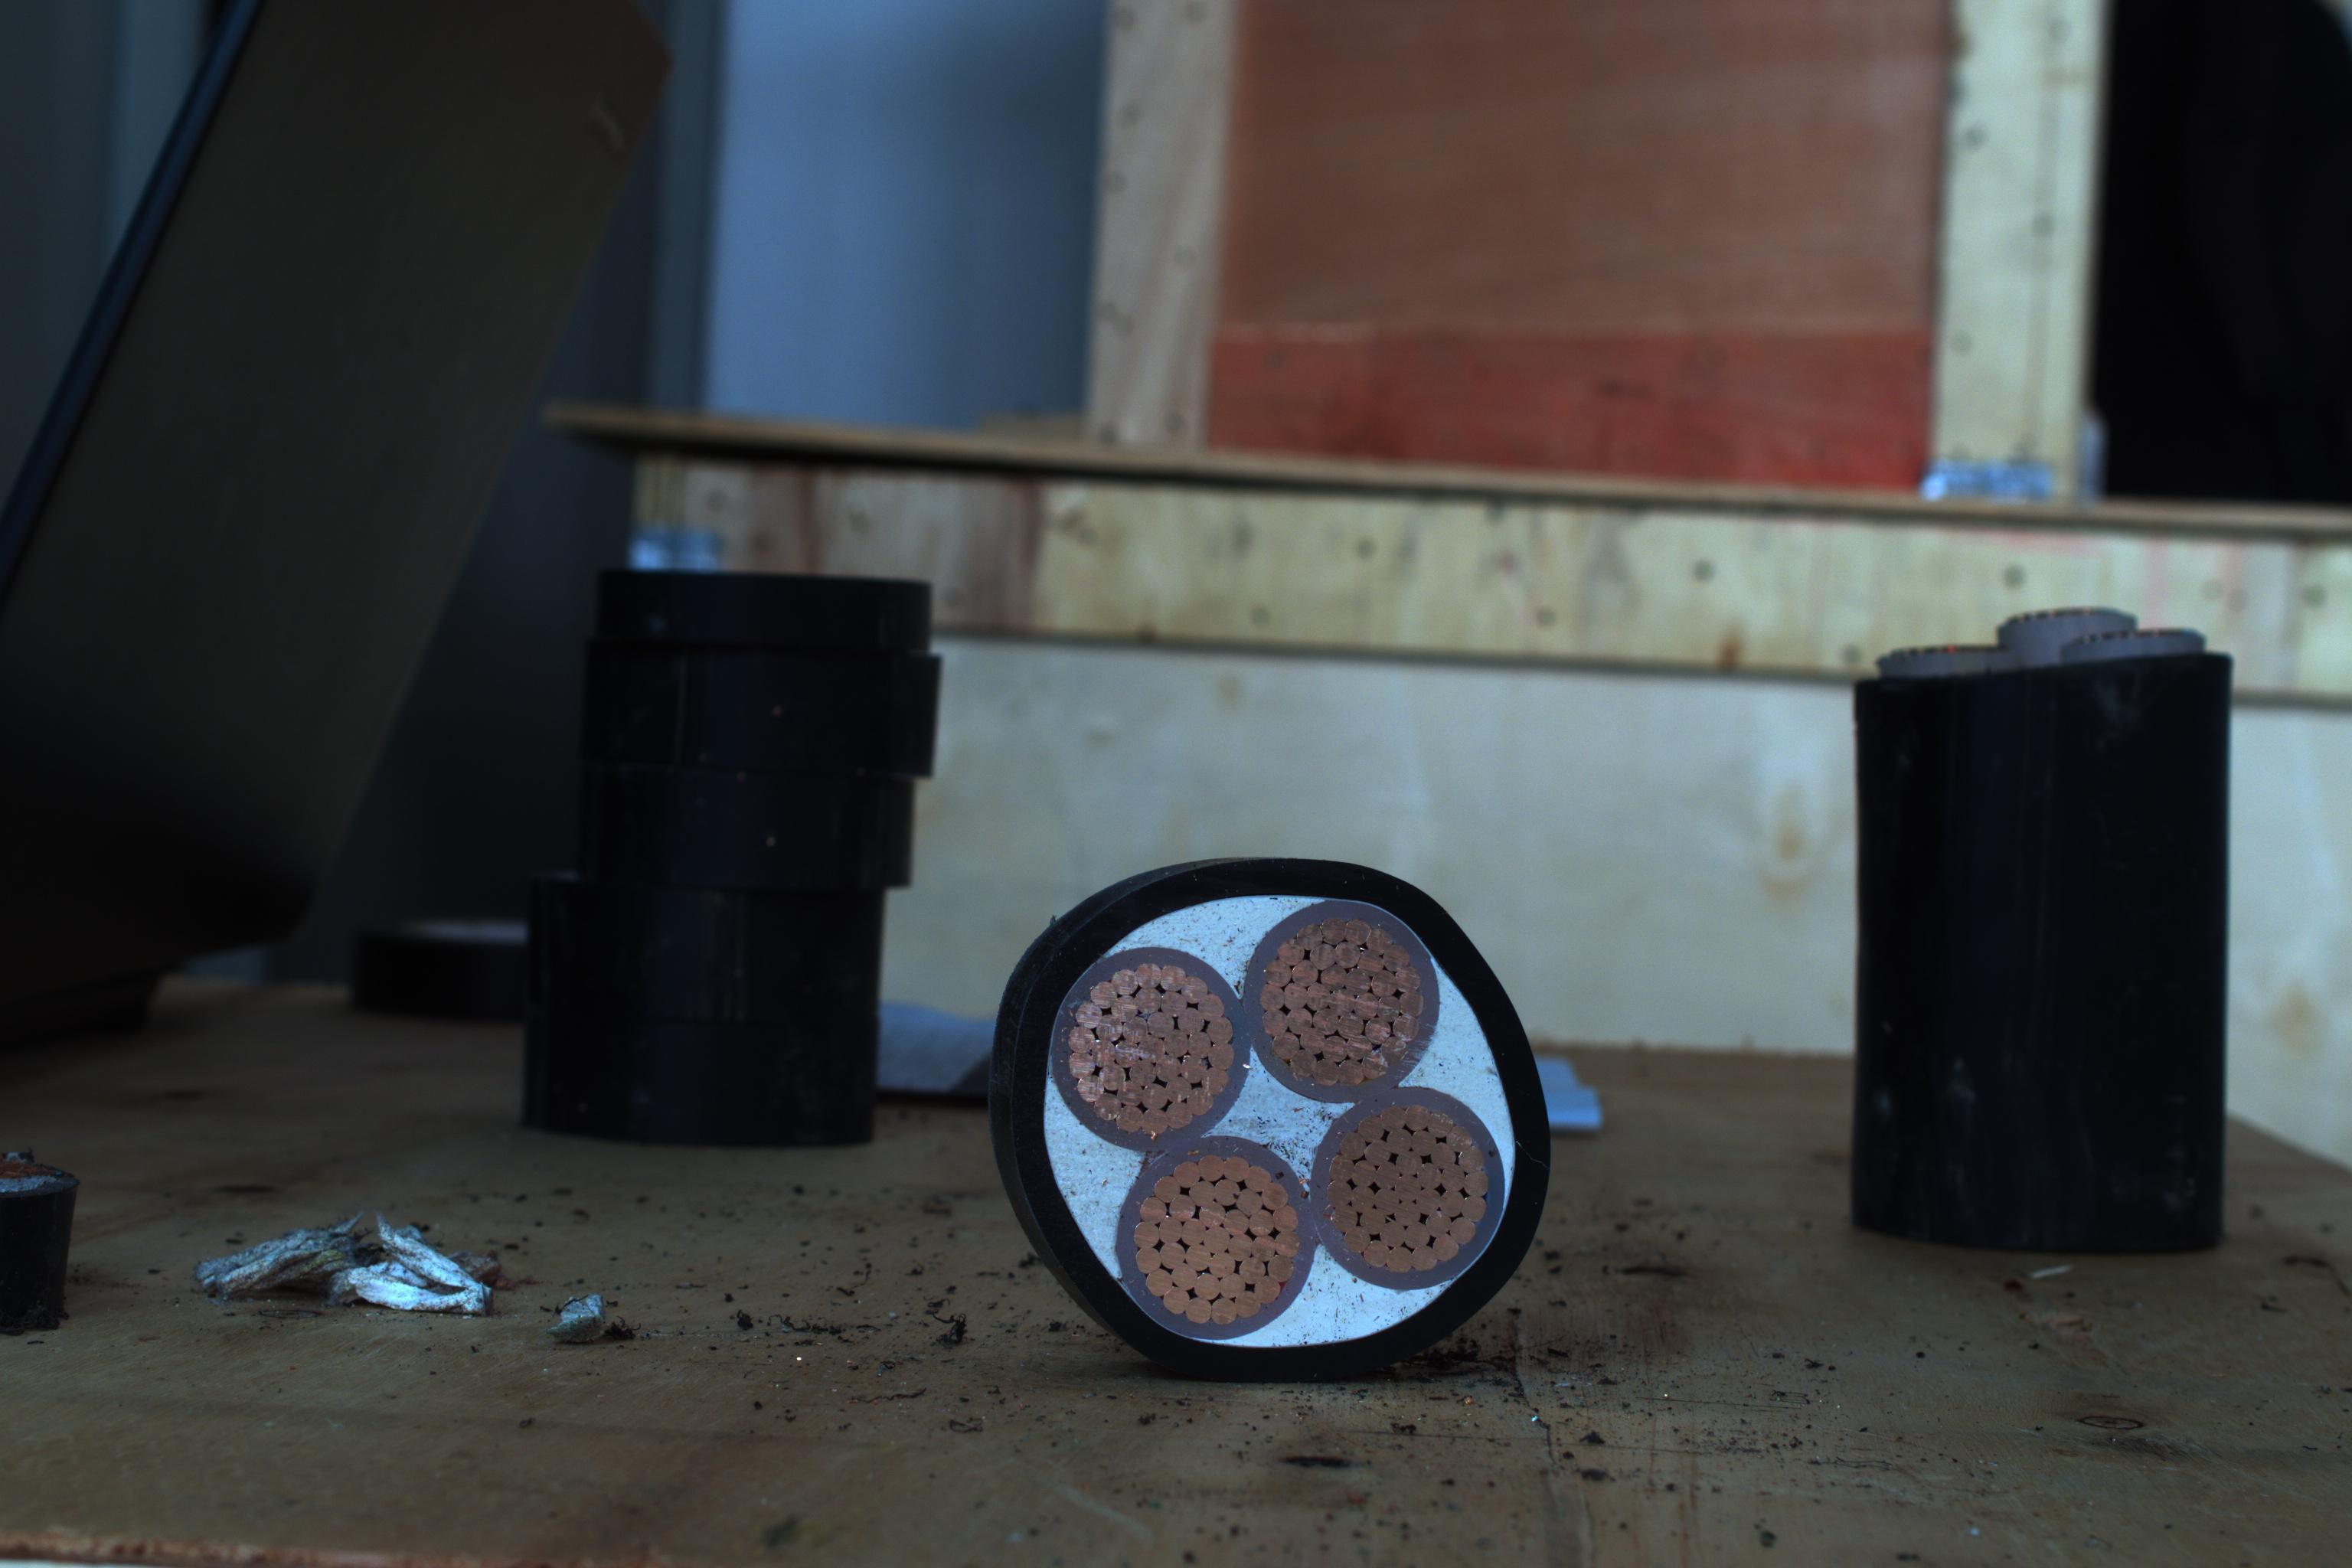YJV_0.6_1kV_4x240: (1020, 857, 1549, 1356)
